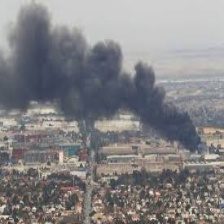smoke: (2, 28, 203, 157)
